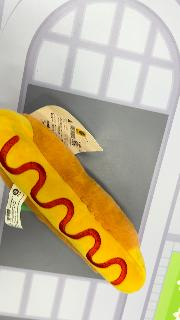hotdog: (1, 108, 147, 294)
